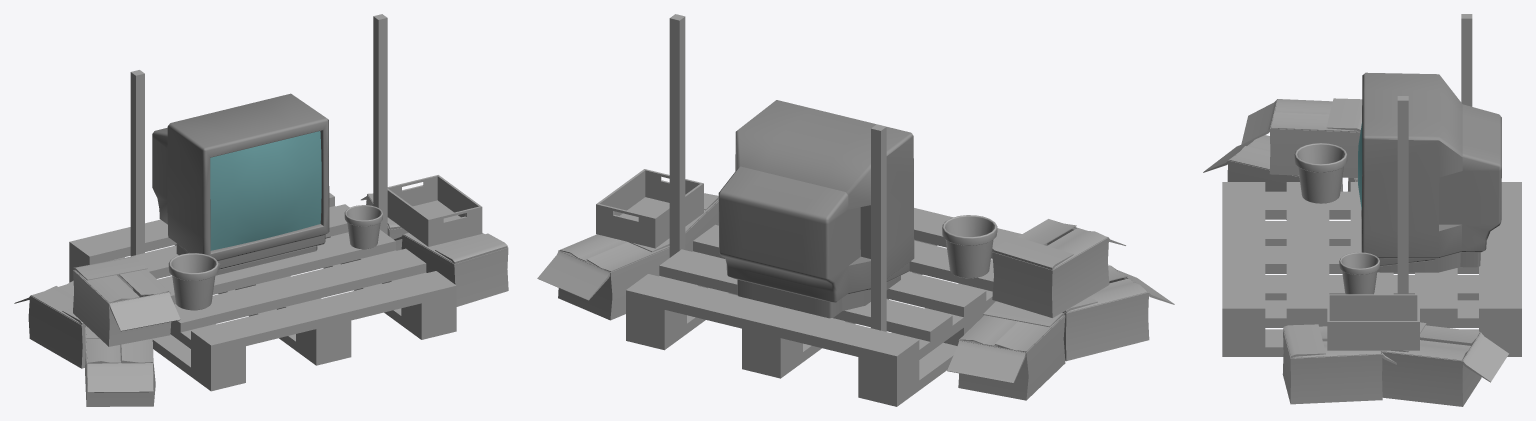
File: SM_Shop.fbx
The picture shows the model from 3 angles, left to right: view 1: azimuth 30°, elevation 25°; view 2: azimuth 150°, elevation 25°; view 3: azimuth 270°, elevation 25°; orthographic projection. The views are drawn at different scales.
Parts seen in each view (by area): view 1: SM_Shop; view 2: SM_Shop; view 3: SM_Shop.
Boxes of the visible parts, x1,y1,x2,y2 form: SM_Shop: (14, 14, 508, 406); SM_Shop: (537, 14, 1174, 406); SM_Shop: (1203, 14, 1521, 406).
Bounding box in the file's own units: 215 × 114 × 123.
